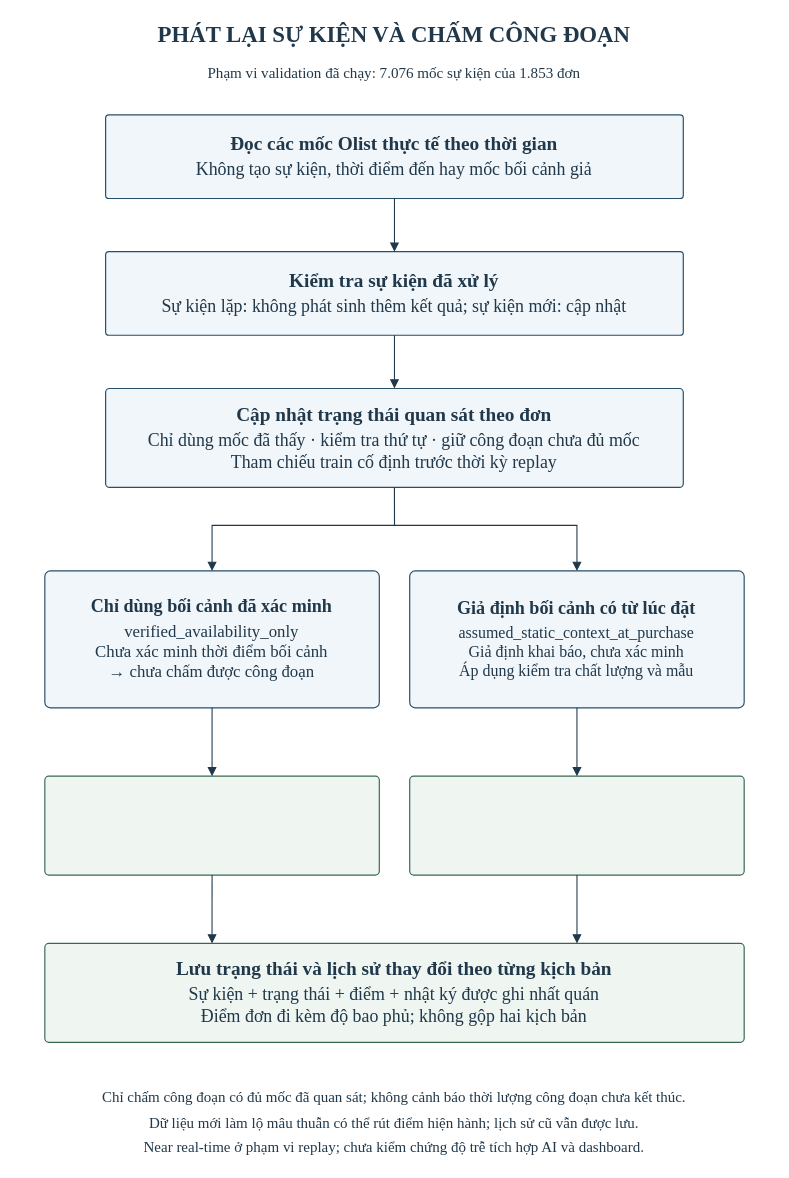
Image size: 789x1178. Some labels were removed from this diagram. The centre of each missing label's shape, as x and y in pixels:
"Kết quả kịch bản giả định 4.865 công đoạn có điểm 1.726 đơn có ít nhất một điểm" goes at pixel 576 825.
"Kết quả kịch bản xác minh 0 công đoạn có điểm Không suy ra đơn bình thường" goes at pixel 211 825.
